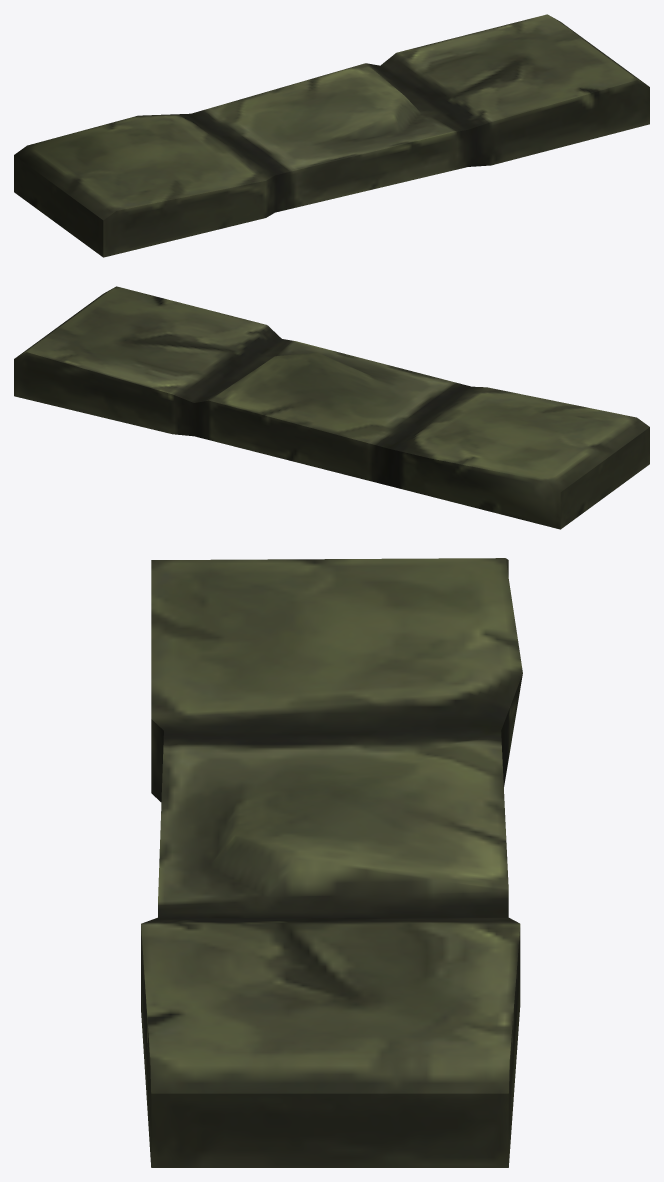
The model's file is floor_divider_02.fbx.
The picture shows the model from 3 angles, top to bottom: view 1: azimuth 30°, elevation 25°; view 2: azimuth 150°, elevation 25°; view 3: azimuth 270°, elevation 25°; orthographic projection. The views are drawn at different scales.
Parts seen in each view (by area): view 1: floor_divider_02; view 2: floor_divider_02; view 3: floor_divider_02.
Boxes of the visible parts, left/top/right/bottom form: floor_divider_02: left=14, top=14, right=649, bottom=257; floor_divider_02: left=14, top=286, right=649, bottom=529; floor_divider_02: left=141, top=558, right=522, bottom=1167.
Size of the model in its own units: 200 by 18.26 by 60.52.
